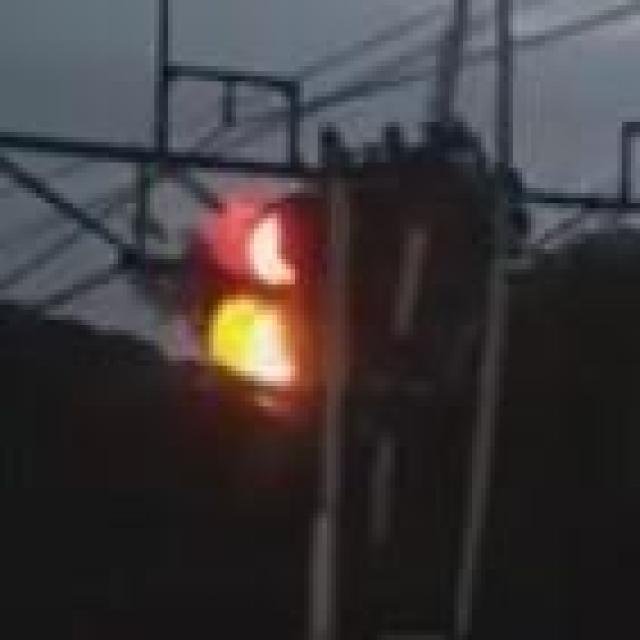yellow_light: (209, 198, 332, 513)
